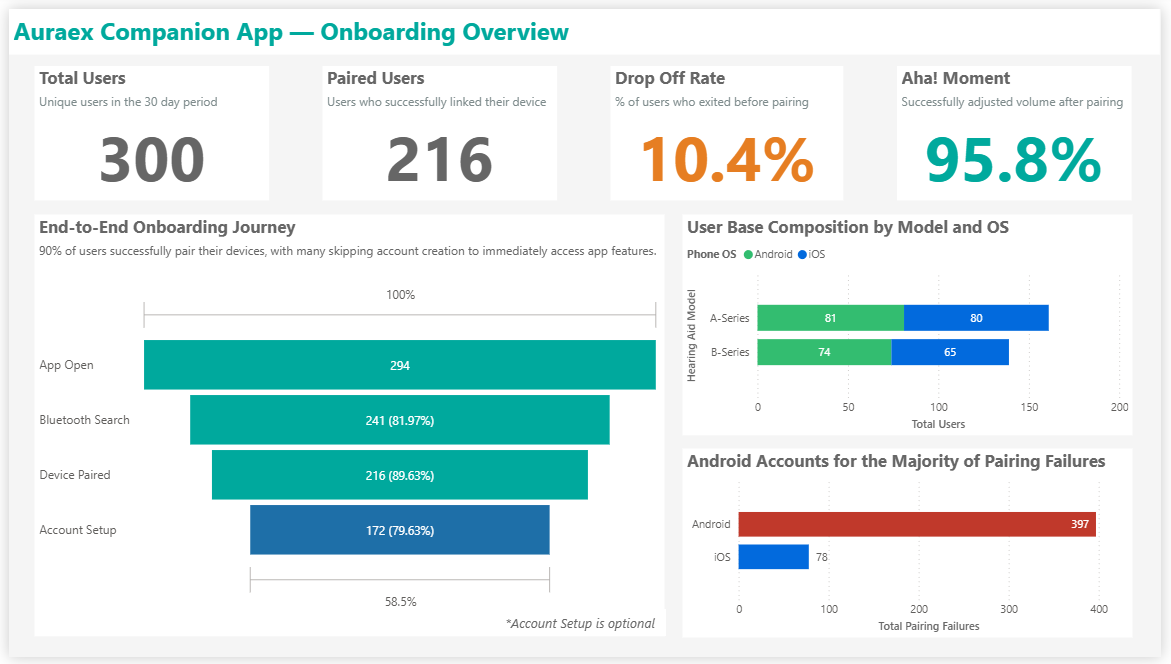

The page's visual inventory and layout, read from the dashboard file:
{"tool":"powerbi","page":{"name":"Onboarding Overview","canvas":[1280,720],"ordinal":0},"visuals":[{"type":"textbox","box":[0,0,1278.9,50.9],"z":0},{"type":"funnel","title":"End-to-End Onboarding Journey","fields":{"Category":["app_event_logs.event_name"],"Y":["app_event_logs.Total Users"]},"box":[28.3,228.7,700,468.7],"z":1000},{"type":"cardVisual","title":"Total Users","fields":{"Data":["app_event_logs.Total Users"]},"box":[28.3,63.6,260.8,149.3],"z":2000},{"type":"cardVisual","title":"Paired Users","fields":{"Data":["app_event_logs.Device Paired Users"]},"box":[348.3,63.6,260.8,149.3],"z":3000},{"type":"cardVisual","title":"Drop Off Rate","fields":{"Data":["app_event_logs.Drop Off Rate"]},"box":[668.2,63.6,258.9,149.3],"z":4000},{"type":"cardVisual","title":"Aha! Moment","fields":{"Data":["app_event_logs.Aha Moment Percent"]},"box":[986.2,63.6,260.9,149.5],"z":5000},{"type":"clusteredBarChart","title":"Android Accounts for the Majority of Pairing Failures ","fields":{"Category":["app_event_logs.phone_os"],"Y":["app_event_logs.Total Pairing Failures"]},"box":[748.4,487.6,500,209.8],"z":6000},{"type":"textbox","box":[546.1,667.1,183.3,30.2],"z":7000},{"type":"barChart","title":"User Base Composition by Model and OS","fields":{"Category":["app_event_logs.hearing_aid_model"],"Series":["app_event_logs.phone_os"],"Y":["app_event_logs.Total Users"]},"box":[748.4,228.7,500,245],"z":8000}]}

Visuals, with their boxes in screenshot pixels (x1, y1, x2, y2), scaled from the page's 1280x720 canvas onto the 1171x664 screenshot:
textbox: select_region(0, 0, 1170, 47)
"End-to-End Onboarding Journey" funnel: select_region(26, 211, 666, 643)
"Total Users" cardVisual: select_region(26, 59, 264, 196)
"Paired Users" cardVisual: select_region(319, 59, 557, 196)
"Drop Off Rate" cardVisual: select_region(611, 59, 848, 196)
"Aha! Moment" cardVisual: select_region(902, 59, 1141, 197)
"Android Accounts for the Majority of Pairing Failures " clusteredBarChart: select_region(685, 450, 1142, 643)
textbox: select_region(500, 615, 667, 643)
"User Base Composition by Model and OS" barChart: select_region(685, 211, 1142, 437)
